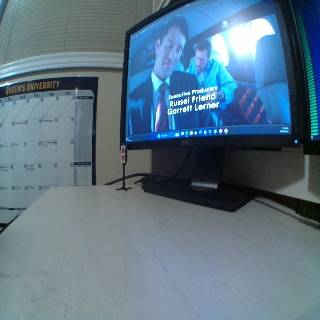sign_noentry: (119, 145, 127, 161)
